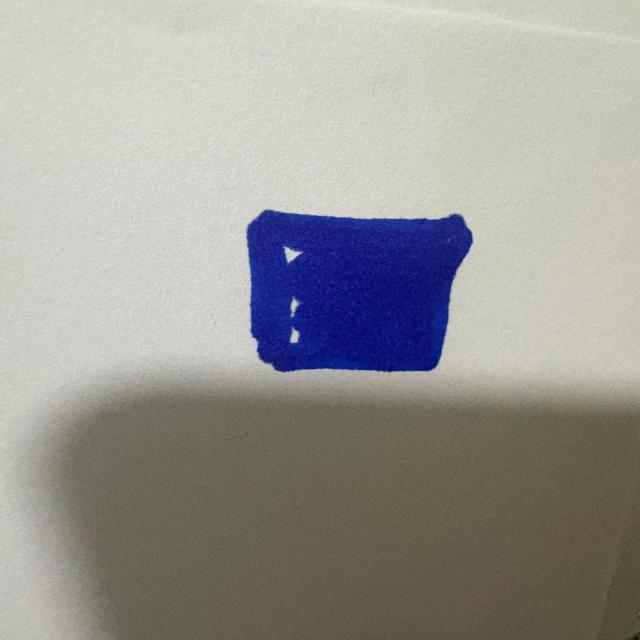Square: (246, 210, 473, 374)
